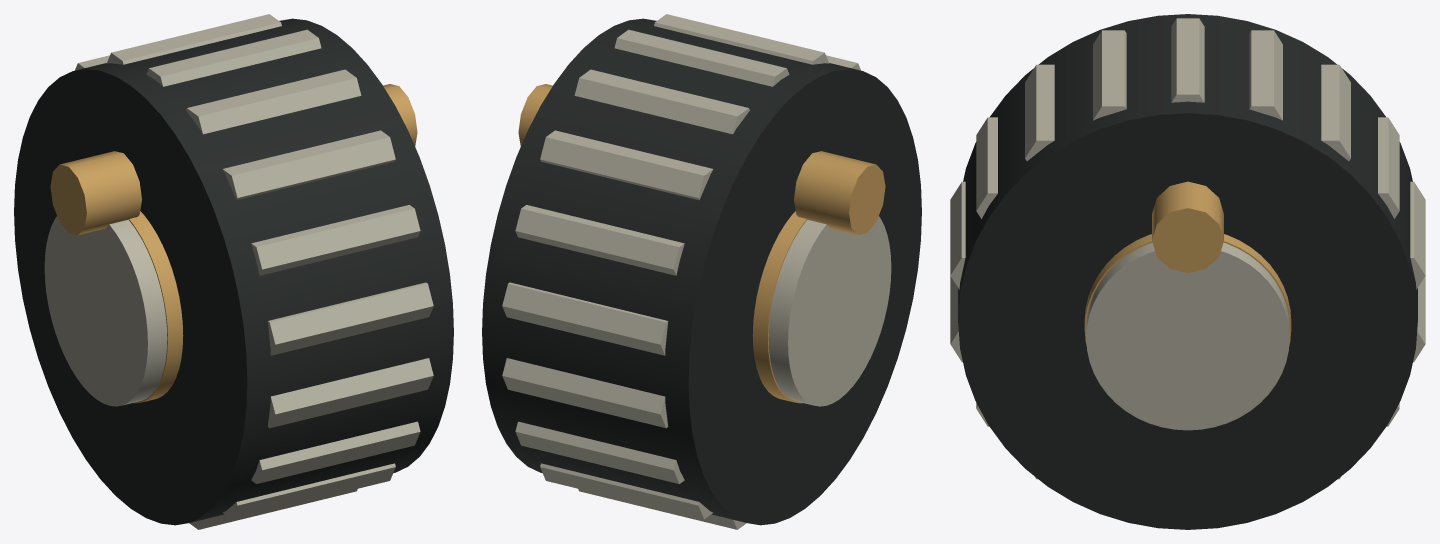
Rendered from Studio.glb.
The picture shows the model from 3 angles, left to right: view 1: azimuth 30°, elevation 25°; view 2: azimuth 150°, elevation 25°; view 3: azimuth 270°, elevation 25°; orthographic projection.
Visible parts, largest first — view 1: Handwheel, Flute (×10), Hub, Winding stud (×2), Hub cap; view 2: Handwheel, Flute (×10), Hub, Winding stud (×2), Hub cap; view 3: Handwheel, Hub, Flute (×11), Winding stud, Hub cap.
Part boxes in pixels (x1,y1,x2,y2): Handwheel: [14, 18, 453, 525]; Flute (×10): [106, 14, 433, 529]; Hub: [44, 216, 167, 406]; Winding stud (×2): [50, 84, 417, 235]; Hub cap: [128, 211, 183, 403]; Handwheel: [482, 18, 921, 525]; Flute (×10): [502, 14, 829, 529]; Hub: [768, 216, 891, 406]; Winding stud (×2): [518, 84, 885, 235]; Hub cap: [752, 211, 807, 403]; Handwheel: [958, 14, 1417, 529]; Hub: [1086, 242, 1289, 430]; Flute (×11): [950, 18, 1425, 362]; Winding stud: [1152, 181, 1223, 273]; Hub cap: [1084, 234, 1291, 345].
Bounding box in the file's own units: 0.48 × 0.6074 × 0.6067.
